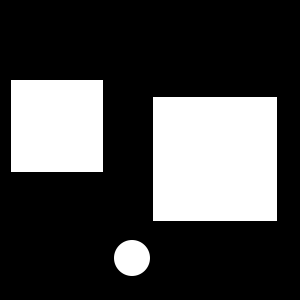circle: (153, 97, 277, 221), (11, 80, 103, 172)
rectangle: (114, 240, 150, 276)
triangle: (224, 133, 274, 183)
